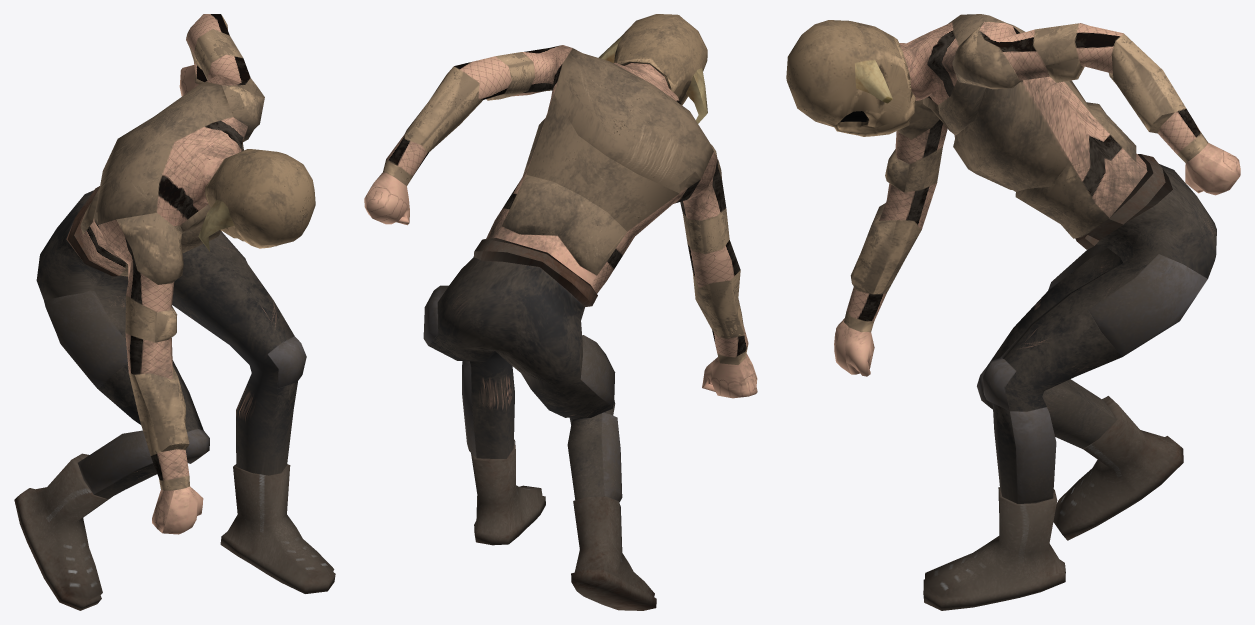
File: Anim_cogerobjeto_npc1.0028.obj
3 views of the same model, side by side, from view 1: azimuth 30°, elevation 25°; view 2: azimuth 150°, elevation 25°; view 3: azimuth 270°, elevation 25° (orthographic). The views are drawn at different scales.
Parts seen in each view (by area): view 1: NPC2; view 2: NPC2; view 3: NPC2.
Boxes of the visible parts, box(x1,y1,x2,y2) form: NPC2: box(14, 14, 335, 610); NPC2: box(364, 14, 757, 610); NPC2: box(786, 14, 1240, 610).
Bounding box in the file's own units: 3.05 × 6.82 × 4.84.
